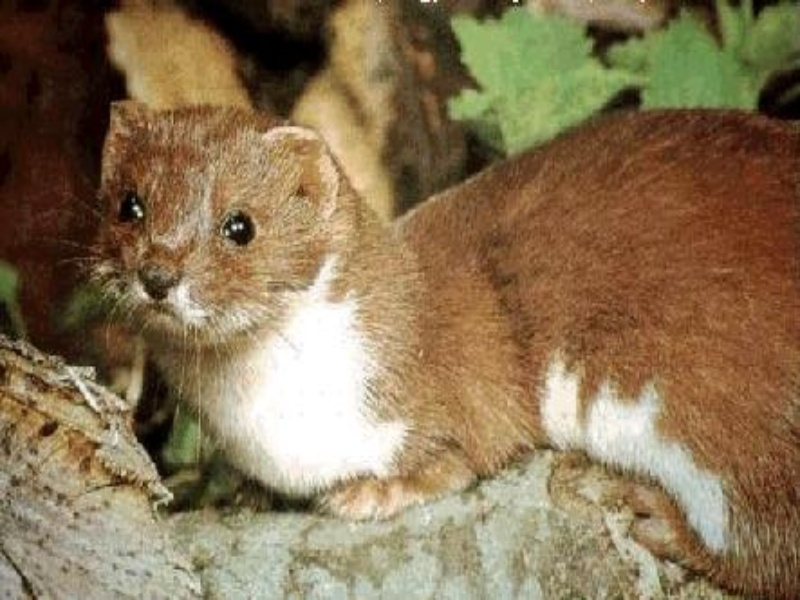minkish: (97, 94, 797, 587)
